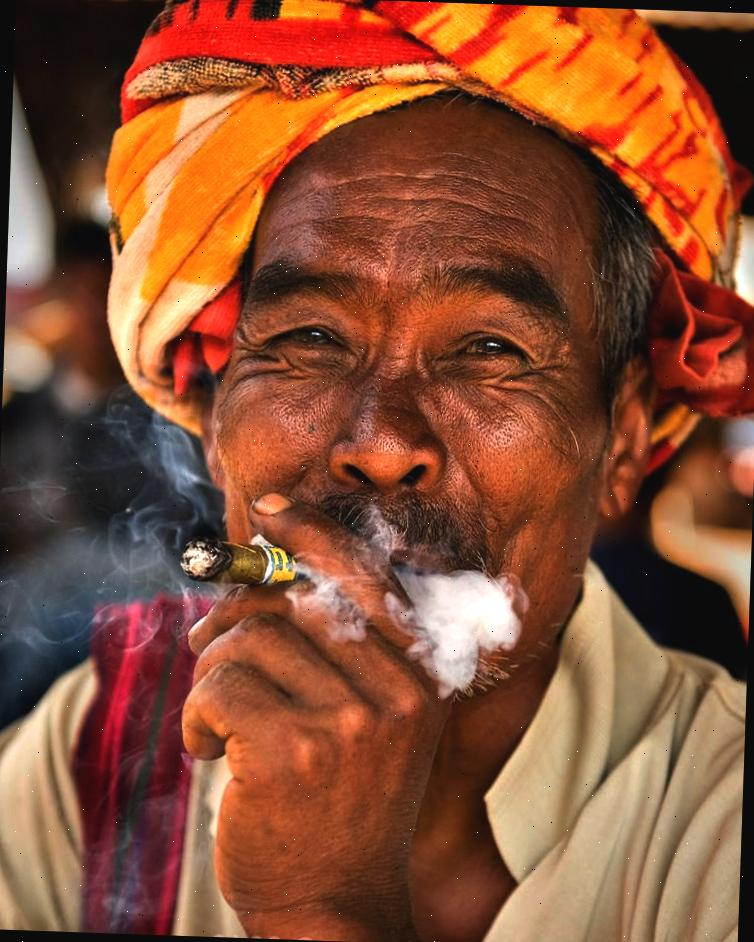smoke: (376, 564, 533, 690)
